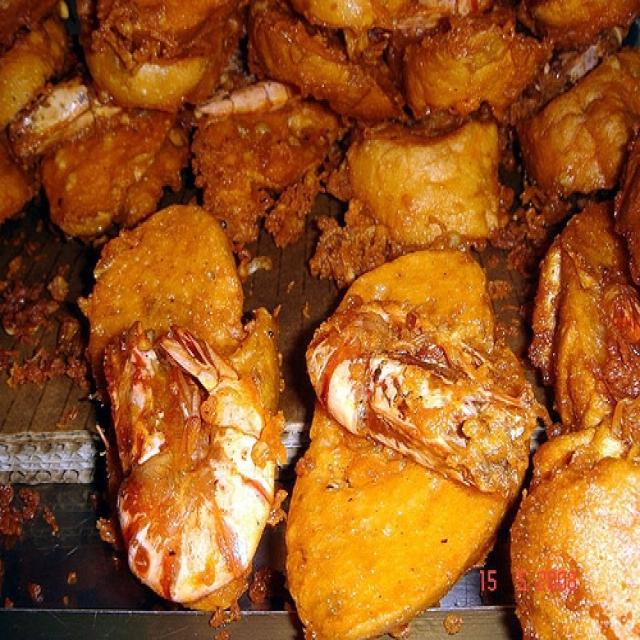炸货点心: (4, 5, 634, 626)
熟制海鲜: (4, 5, 634, 626)
